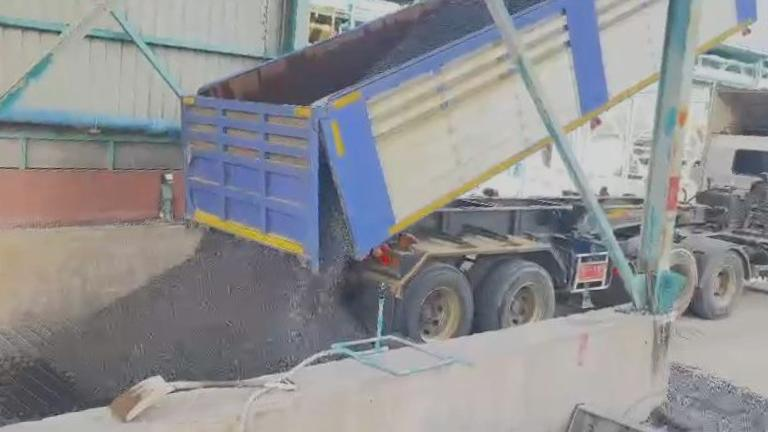gravel: (53, 232, 365, 395), (366, 0, 490, 76), (656, 362, 768, 430), (318, 165, 352, 274), (494, 0, 633, 13)
